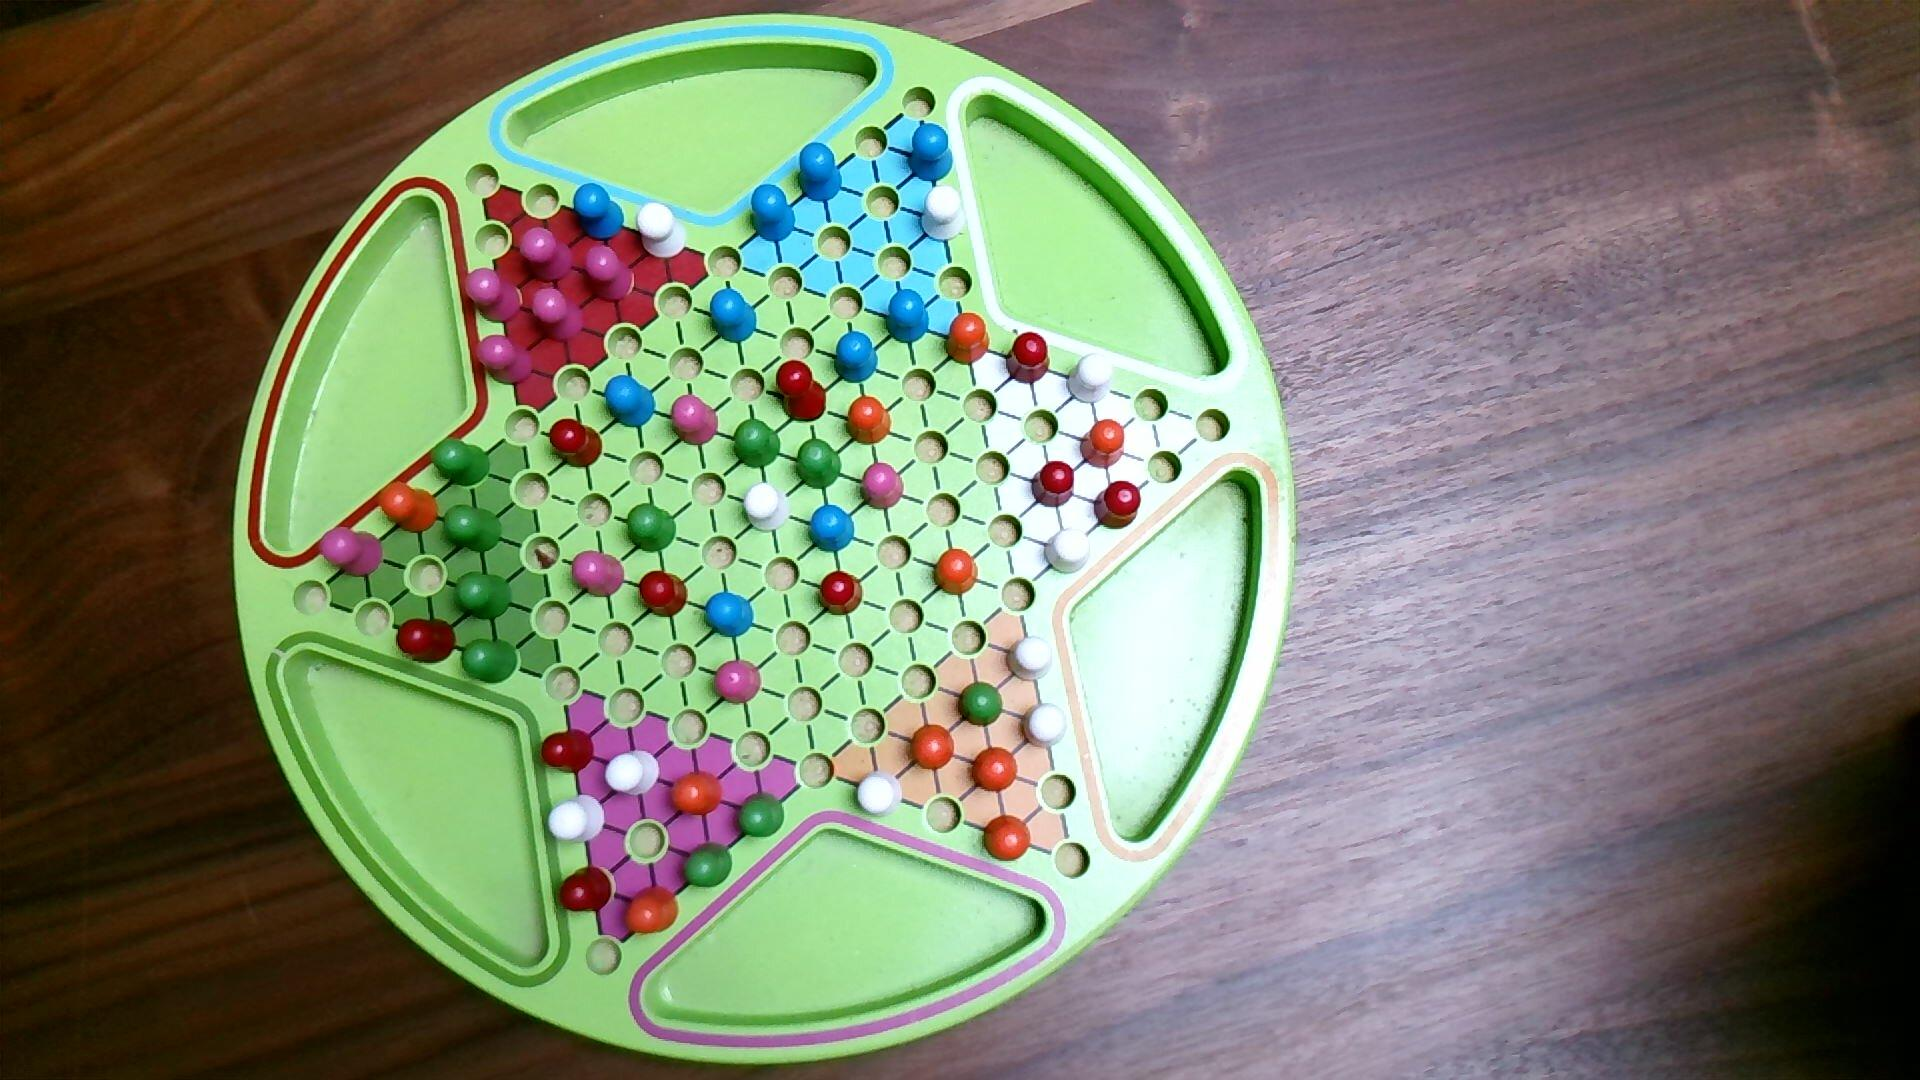B: (572, 182, 626, 243), (603, 375, 658, 431), (907, 121, 955, 185), (708, 287, 760, 345), (750, 183, 798, 245), (796, 142, 844, 204), (884, 287, 932, 345), (703, 589, 756, 641), (806, 502, 857, 555), (833, 328, 880, 386)
G: (429, 435, 492, 489), (451, 570, 516, 622), (440, 504, 504, 556), (459, 637, 520, 687), (624, 502, 679, 555), (731, 418, 783, 471), (795, 436, 844, 492), (735, 790, 786, 841), (680, 843, 735, 890), (957, 680, 1005, 731)
O: (377, 480, 440, 535), (622, 884, 682, 938), (943, 311, 993, 368), (667, 770, 727, 818), (971, 744, 1021, 796), (1079, 418, 1127, 472), (844, 394, 893, 448), (982, 814, 1033, 865), (909, 724, 957, 773), (934, 547, 980, 597)
R: (774, 357, 829, 425), (396, 617, 459, 666), (549, 417, 604, 469), (556, 865, 615, 915), (539, 727, 597, 775), (636, 568, 690, 620), (1004, 331, 1052, 386), (1092, 480, 1143, 531), (816, 568, 866, 618), (1030, 460, 1077, 510)
R2: (316, 525, 384, 580), (517, 225, 578, 286), (463, 266, 524, 326), (529, 285, 587, 345), (473, 334, 535, 389), (582, 245, 636, 305), (570, 549, 626, 600), (669, 393, 720, 448), (712, 659, 764, 708), (858, 462, 907, 513)
W: (636, 200, 688, 261), (546, 794, 607, 845), (603, 749, 663, 799), (1065, 351, 1117, 407), (919, 185, 968, 244), (851, 770, 905, 822), (742, 481, 793, 535), (1019, 702, 1069, 752), (1005, 636, 1055, 684), (1044, 529, 1092, 576)
